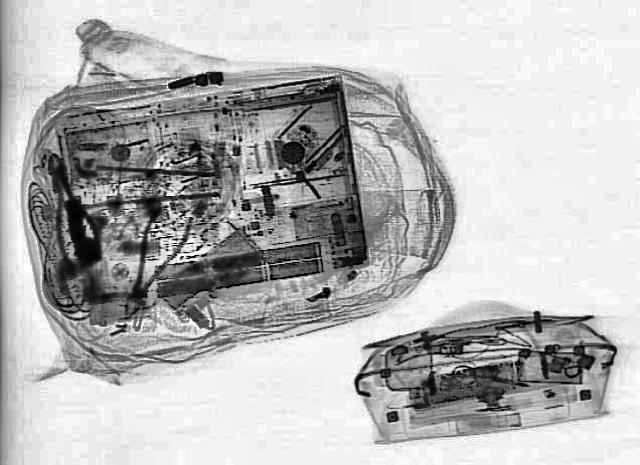Pliers: (25, 150, 111, 276), (104, 209, 196, 322)
